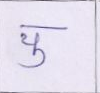u_matra: (22, 49, 48, 69)
